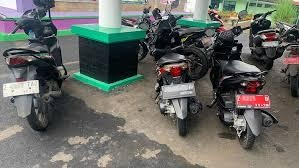plate: (4, 79, 40, 98), (164, 81, 197, 101), (238, 94, 271, 109)
